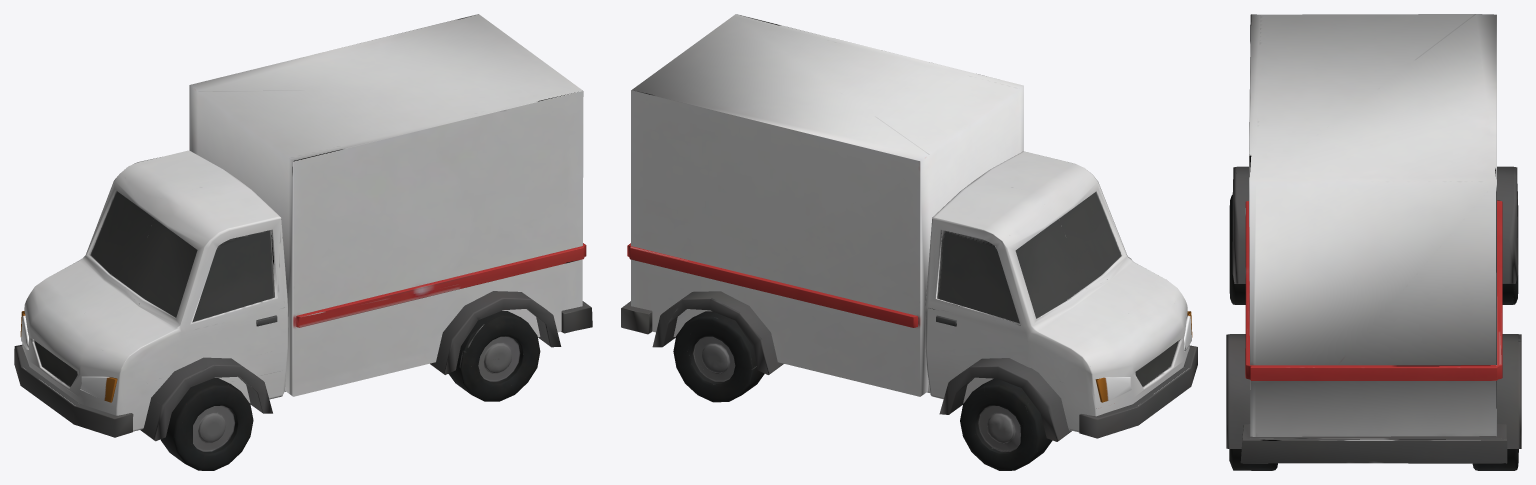
Rendered from 48-delivery-truck.glb.
3 views of the same model, side by side, from view 1: azimuth 30°, elevation 25°; view 2: azimuth 150°, elevation 25°; view 3: azimuth 270°, elevation 25° (orthographic). The views are drawn at different scales.
Visible parts, largest first — view 1: geometry_0; view 2: geometry_0; view 3: geometry_0.
Boxes of the visible parts, bbox=[...] form: geometry_0: bbox=[14, 14, 592, 470]; geometry_0: bbox=[621, 14, 1197, 470]; geometry_0: bbox=[1226, 14, 1521, 470].
Size of the model in its own units: 0.9536 by 0.5303 by 0.4214.
1 material, 1 textured.
